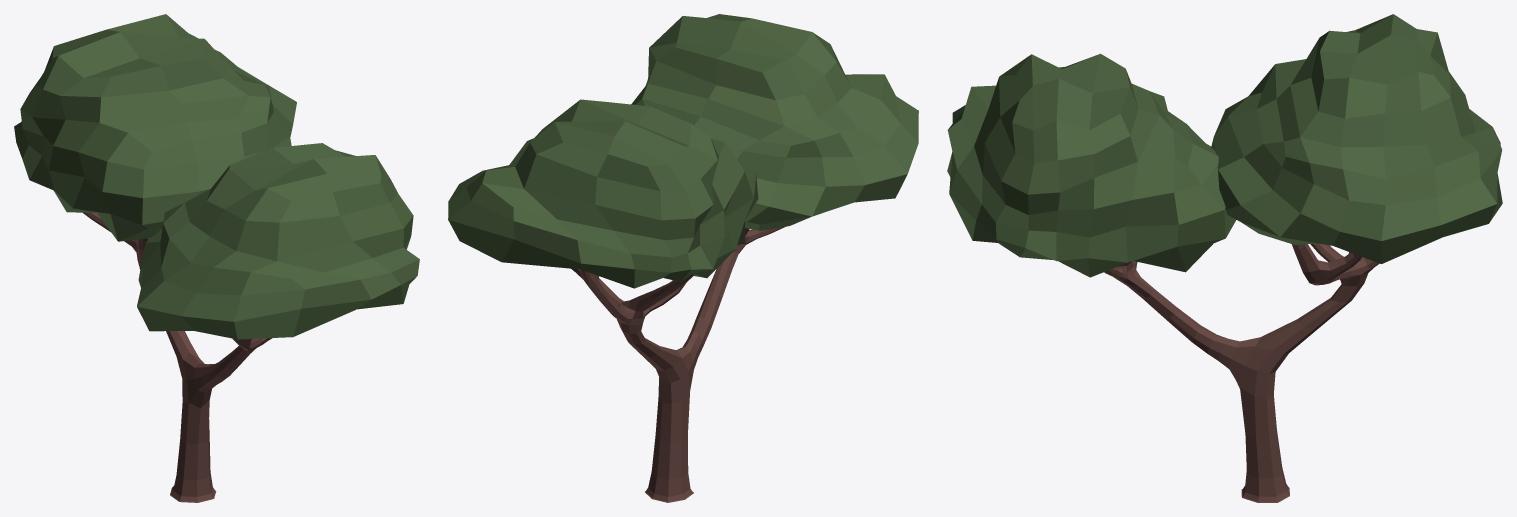
3 views of the same model, side by side, from view 1: azimuth 30°, elevation 25°; view 2: azimuth 150°, elevation 25°; view 3: azimuth 270°, elevation 25° (orthographic). The views are drawn at different scales.
Parts seen in each view (by area): view 1: Tree; view 2: Tree; view 3: Tree.
Part boxes in pixels (bbox=[...]): Tree: bbox=[14, 14, 419, 502]; Tree: bbox=[448, 14, 918, 502]; Tree: bbox=[947, 14, 1502, 502].
Bounding box in the file's own units: 5.22 × 6.85 × 7.66.
